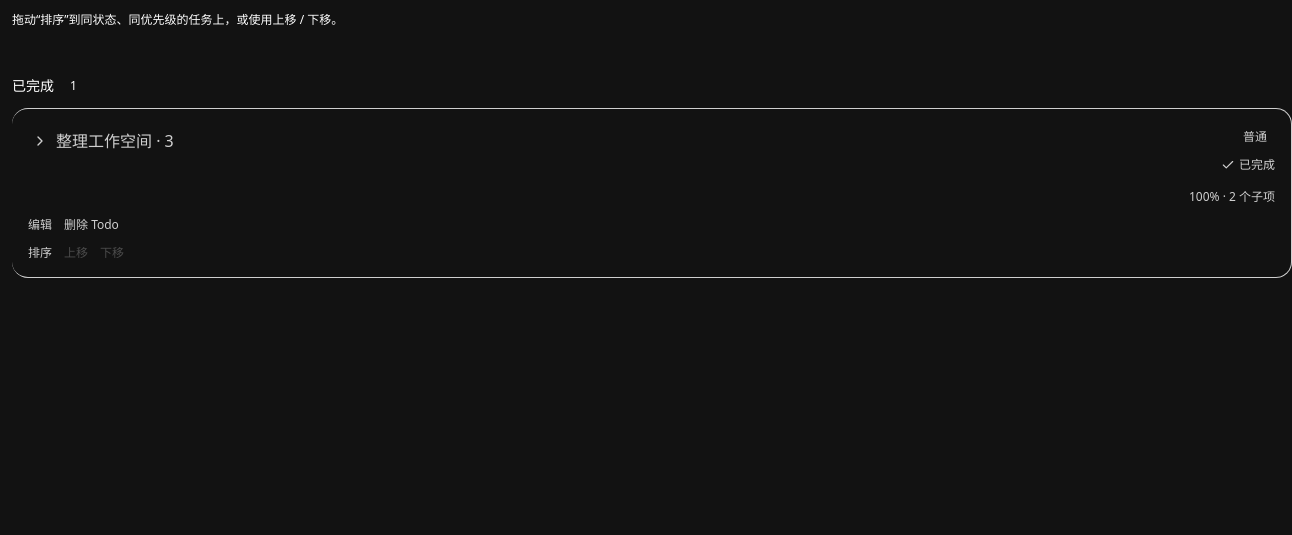
Scenario: keeps completed tasks editable with an undimmed editor
The width and height of the screenshot is (1292, 535).
What coordinates should you click on to do the following:
click the button "编辑"
I would click on:
 (40, 225)
Its box is [28,217,52,233].
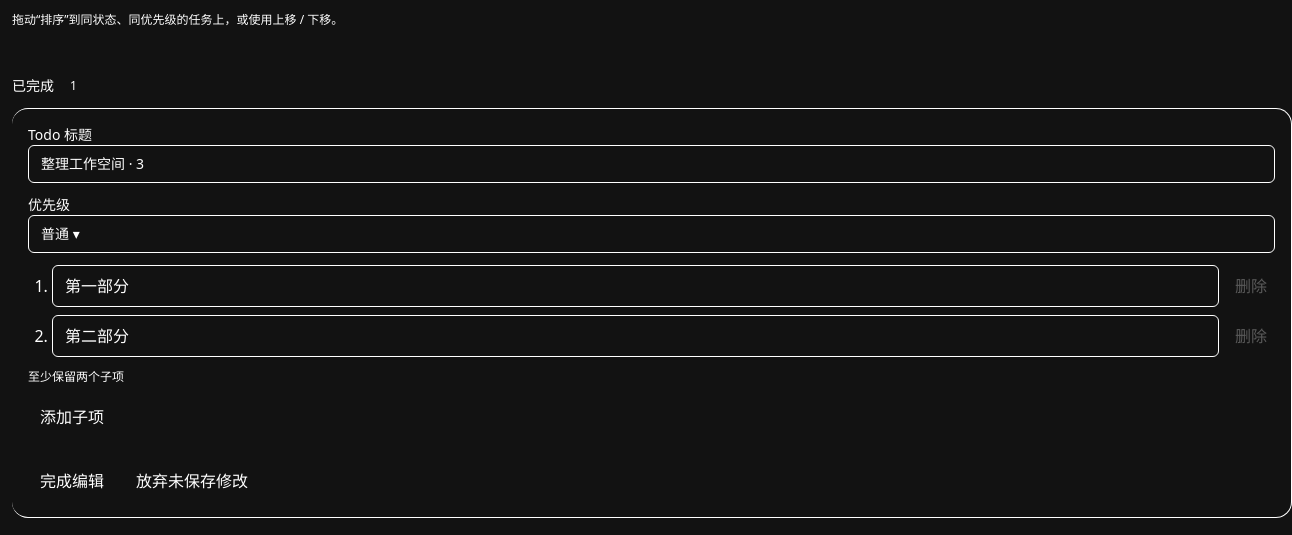
Result: the field labelled "Todo 标题" is enabled at [28,145,1275,183]
